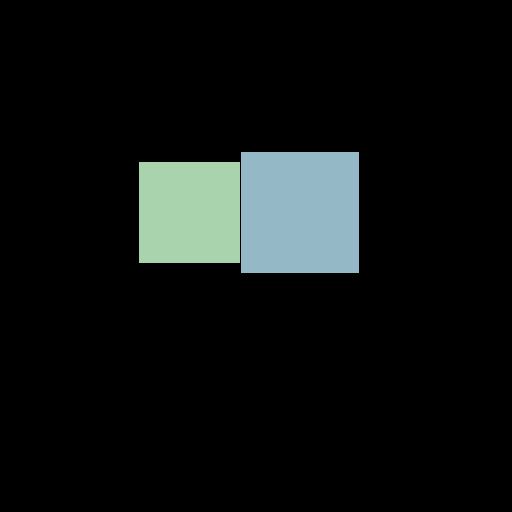square: (241, 152, 358, 272), (139, 162, 239, 262)
